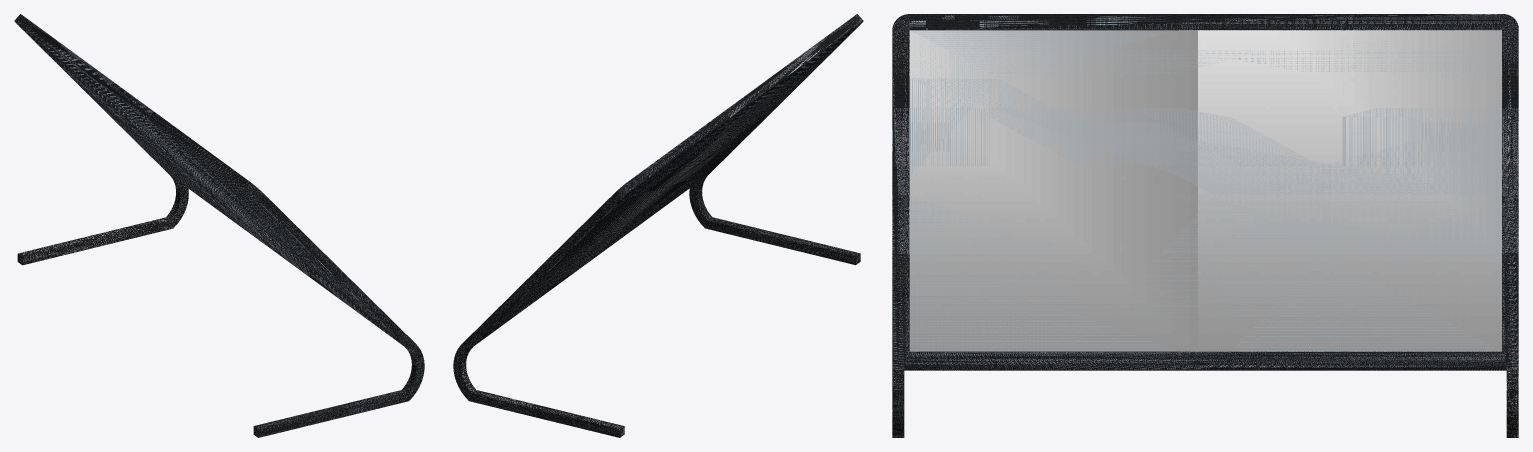
Rendered from LCD.dae.
3 renders of one model, left to right at view 1: azimuth 30°, elevation 25°; view 2: azimuth 150°, elevation 25°; view 3: azimuth 270°, elevation 25°, orthographic. The views are drawn at different scales.
Visible parts, largest first — view 1: SketchUp; view 2: SketchUp; view 3: SketchUp (×2).
Part boxes in pixels (left/top/right/bottom): SketchUp: left=14, top=14, right=424, bottom=437; SketchUp: left=453, top=14, right=863, bottom=437; SketchUp (×2): left=892, top=14, right=1518, bottom=437.
Bounding box in the file's own units: 76.02 × 182 × 105.
Materials: 5 (3 with a texture image).
